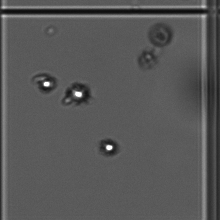Dead Cell: (137, 46, 159, 69), (153, 22, 173, 46)
Living Cell: (61, 77, 95, 111), (97, 135, 123, 159), (32, 69, 53, 94)
